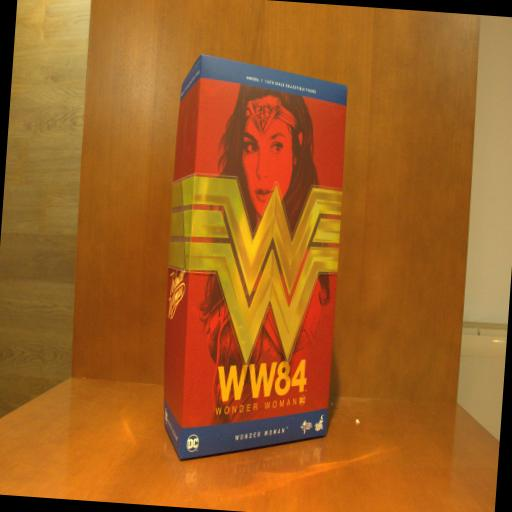WonderWoman: (153, 48, 355, 474)
